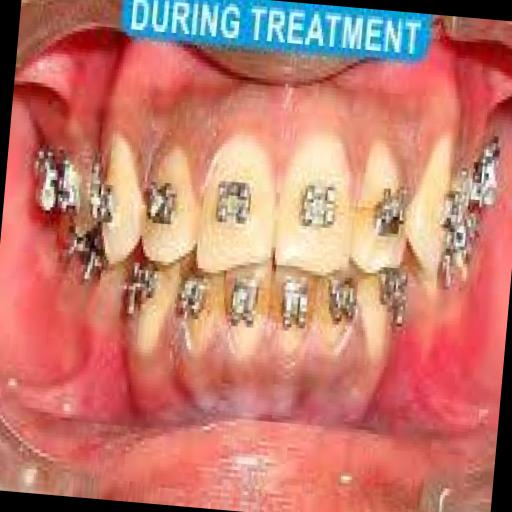correct_brace: (366, 179, 416, 247), (294, 170, 343, 239), (210, 172, 256, 232), (432, 179, 471, 245), (142, 174, 180, 232), (88, 170, 116, 240)
incorrect_brace: (347, 142, 422, 295), (132, 143, 206, 269)
